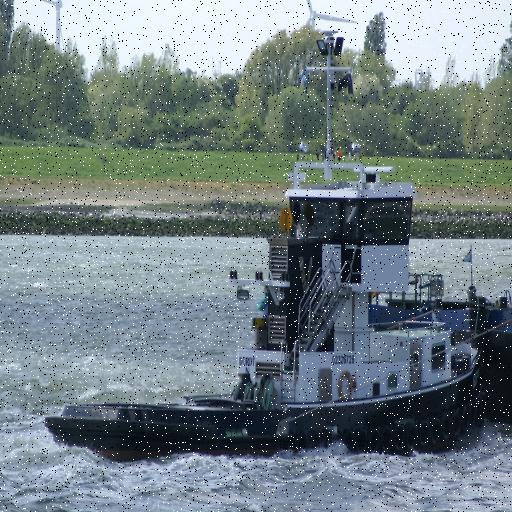tugboat: (43, 157, 492, 474)
